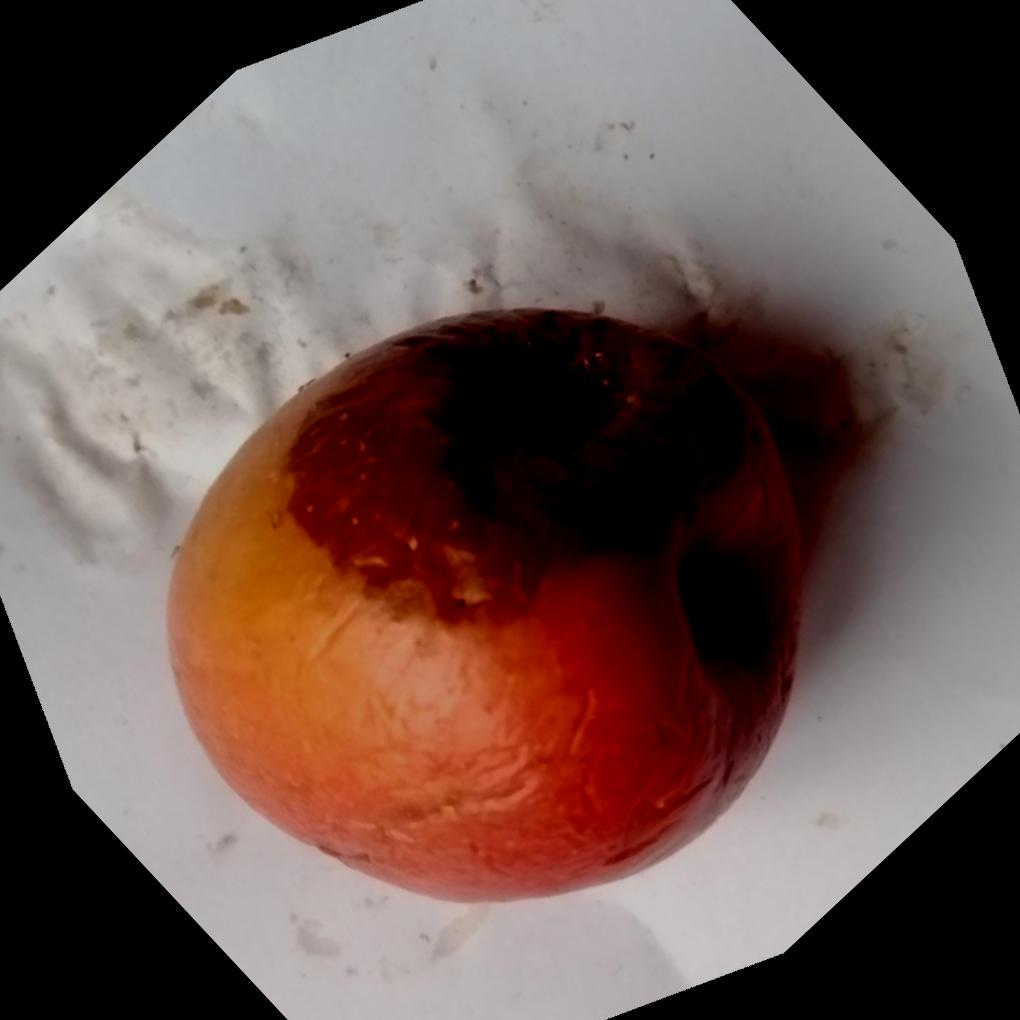FreshOrange: (164, 303, 810, 906)
